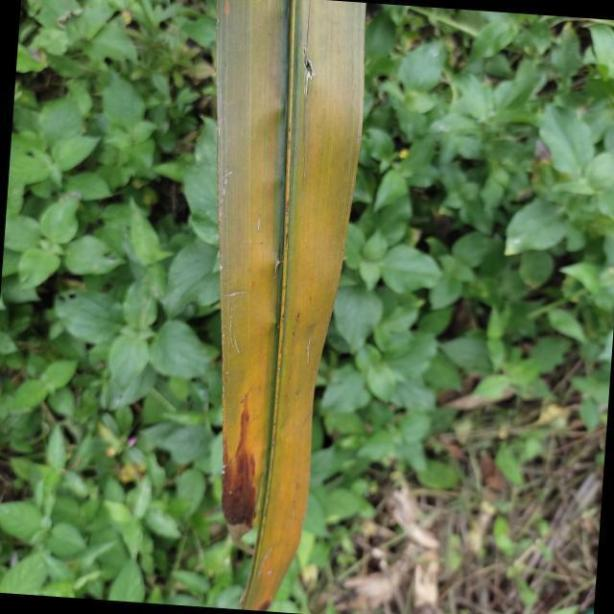Megnesium: (214, 0, 367, 604)
